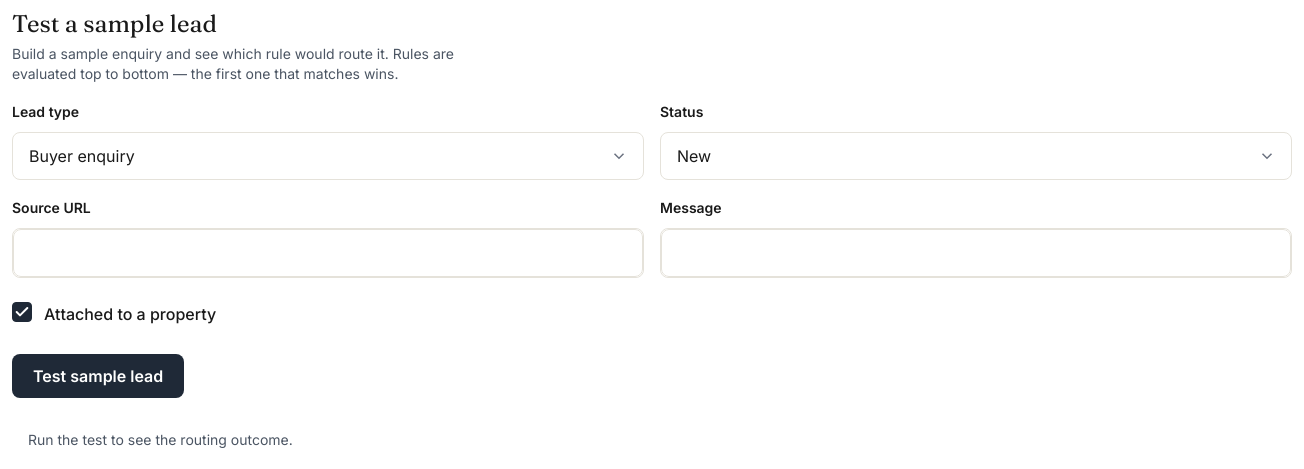
AssignmentRuleTester (FR-H-4 — test against a sample before saving) › reports no match (enquiry stays unassigned) when nothing applies
Step 1. Select "Tenant enquiry" in the dropdown labelled "Lead type" → (328, 156), box 12,132 -> 644,180
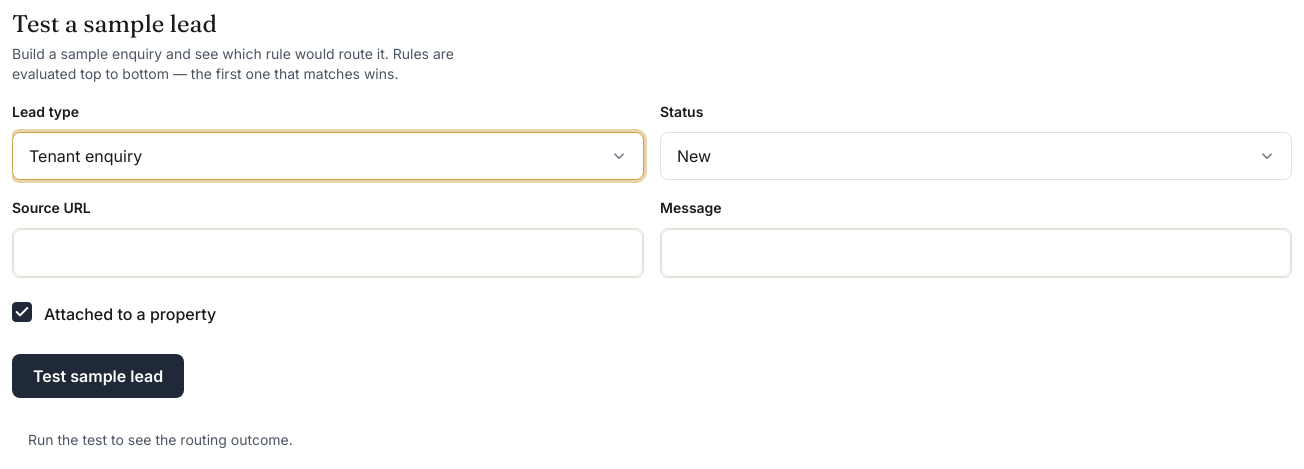
Step 2. Click the button "Test sample lead" → (98, 376), box 12,354 -> 184,398
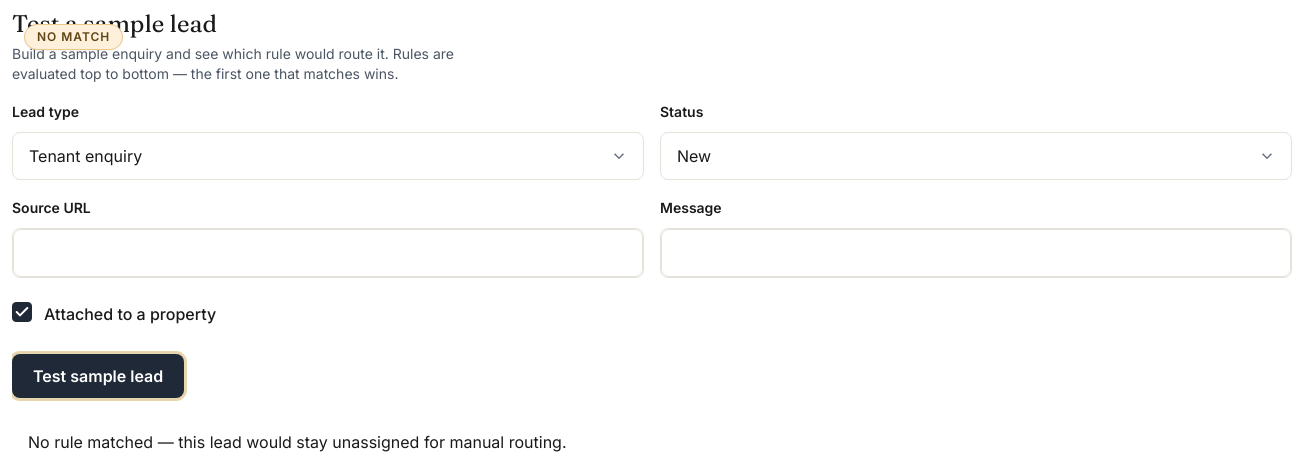
Expected: the message with test id "rule-tester-result" shows "No rule", 28,432 -> 566,452
